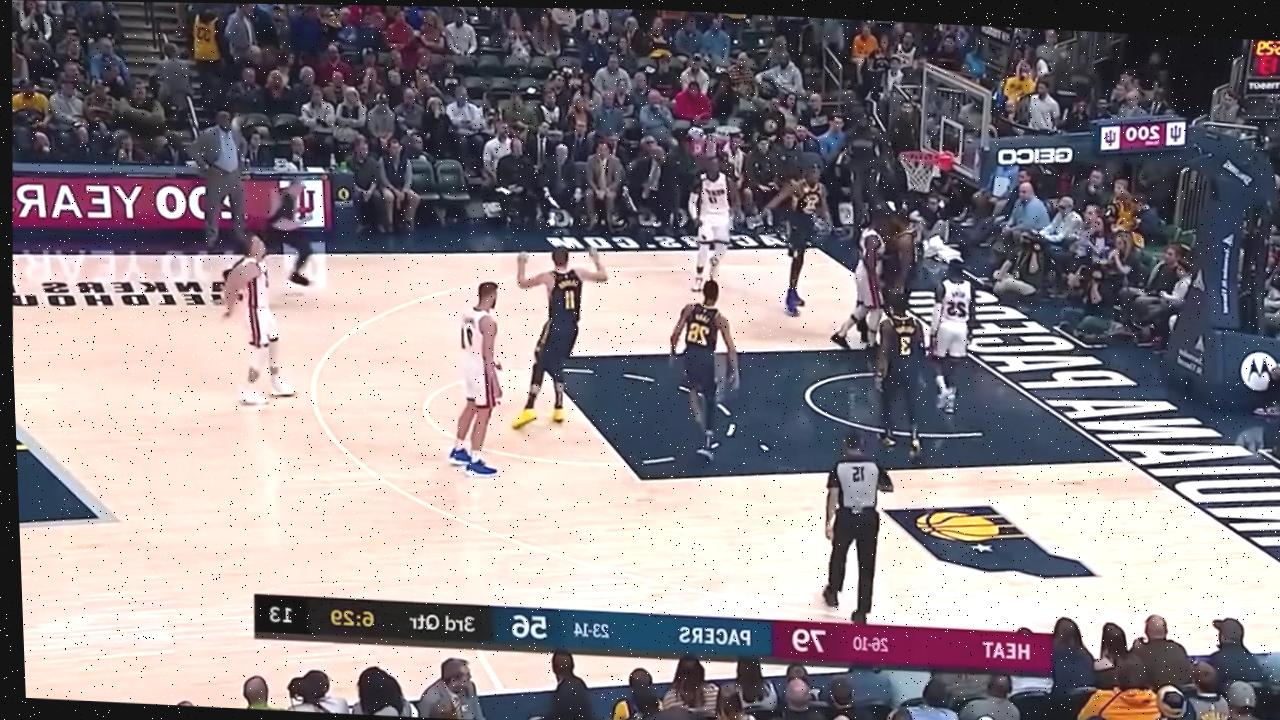foul: (821, 206, 933, 357)
